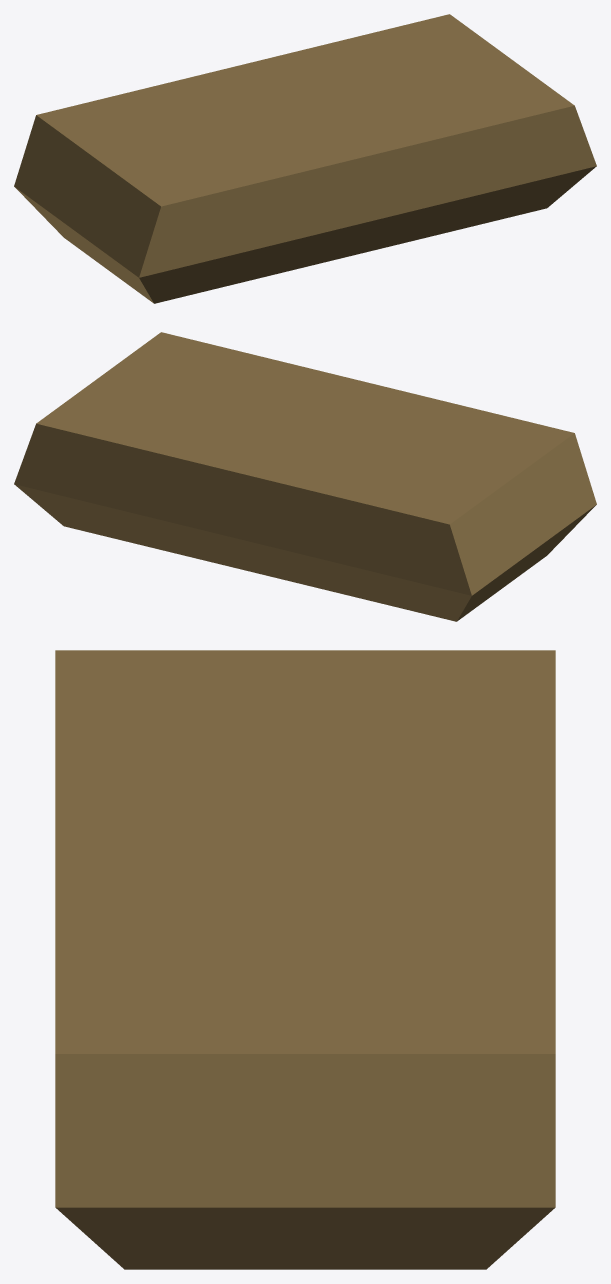
File: Itr_Obj_Grandfatherclock1_Base_01.FBX
3 views of the same model, one above another, from view 1: azimuth 30°, elevation 25°; view 2: azimuth 150°, elevation 25°; view 3: azimuth 270°, elevation 25° (orthographic). The views are drawn at different scales.
Parts seen in each view (by area): view 1: Itr_Obj_Grandfatherclock1_Base_01; view 2: Itr_Obj_Grandfatherclock1_Base_01; view 3: Itr_Obj_Grandfatherclock1_Base_01.
Boxes of the visible parts, x1,y1,x2,y2 form: Itr_Obj_Grandfatherclock1_Base_01: [14, 14, 596, 303]; Itr_Obj_Grandfatherclock1_Base_01: [14, 332, 596, 621]; Itr_Obj_Grandfatherclock1_Base_01: [55, 650, 555, 1269].
Size of the model in its own units: 22.36 by 5.26 by 10.57.
